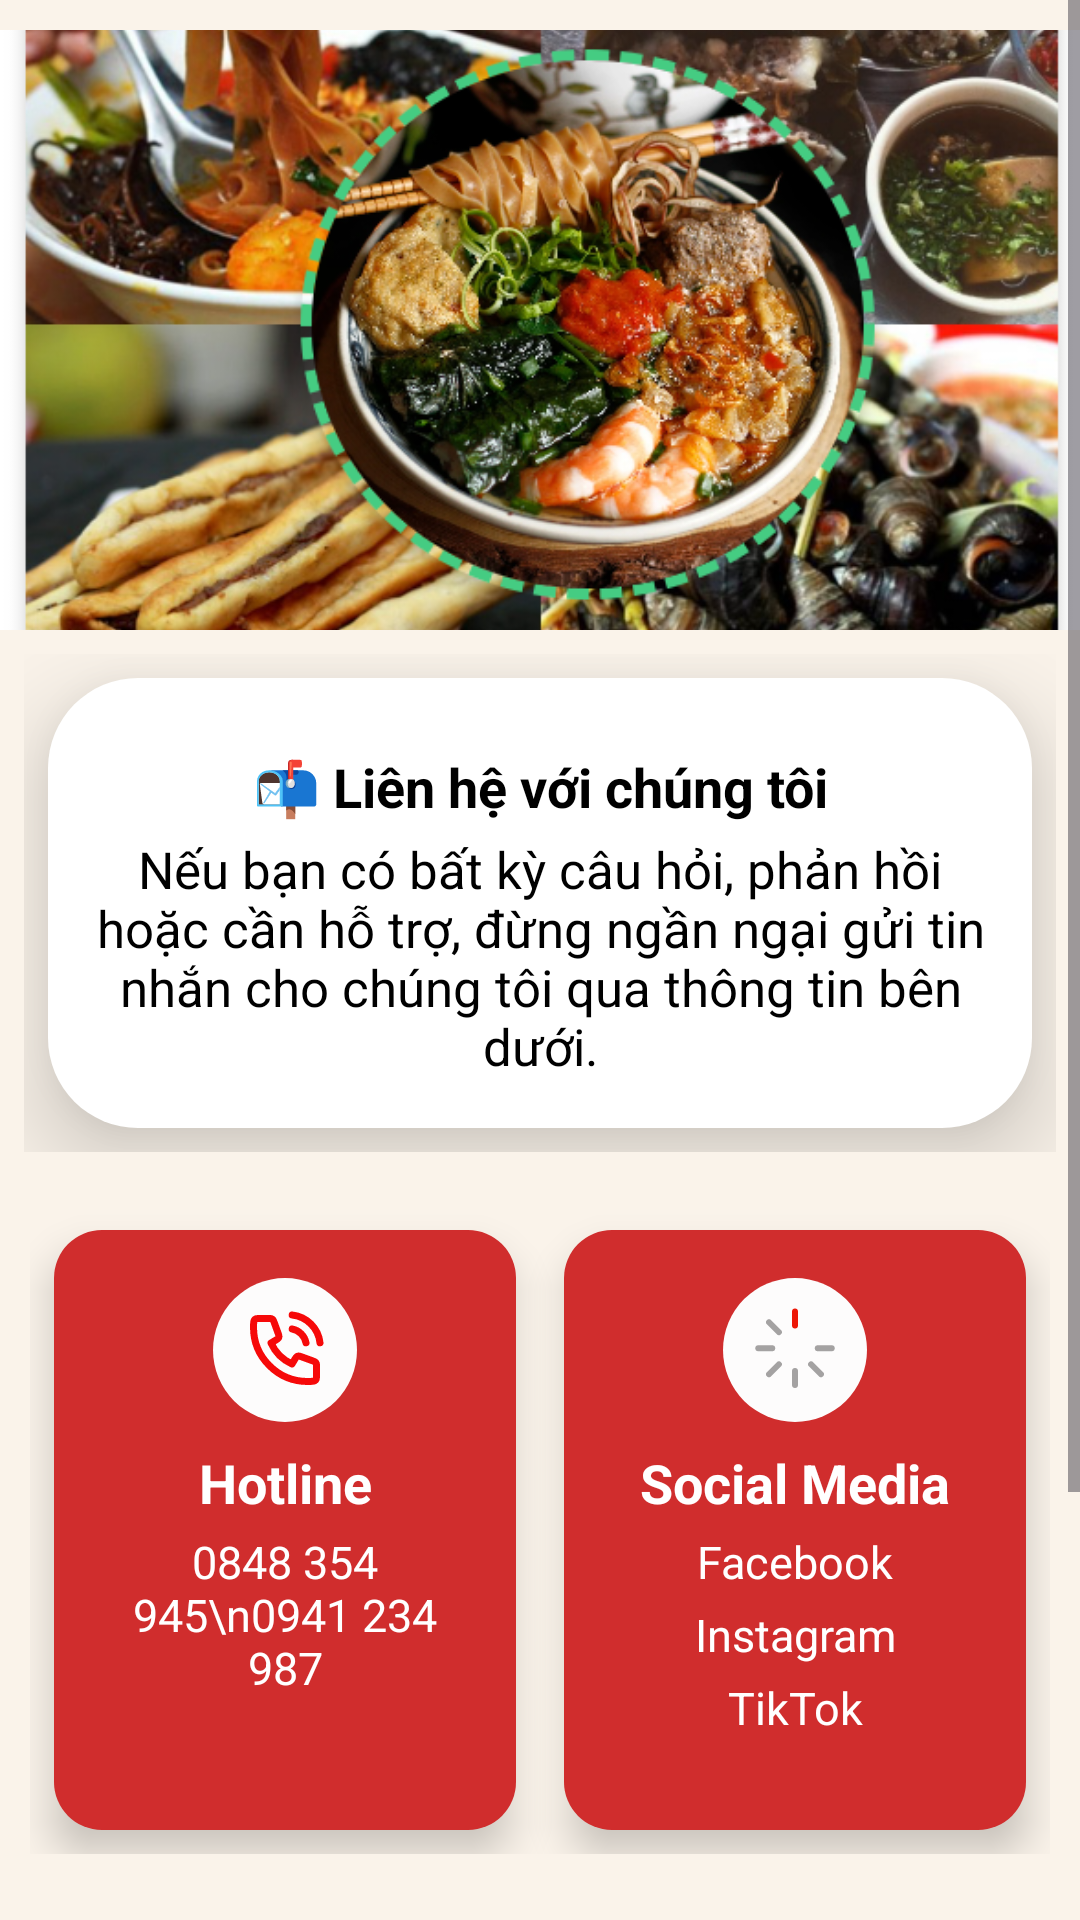

Screen size 1080 × 1920. Icon name, then its box in pixels as (x1, y1, x2, y2):
loading: (723, 1278, 867, 1422)
phone: (213, 1278, 357, 1422)
